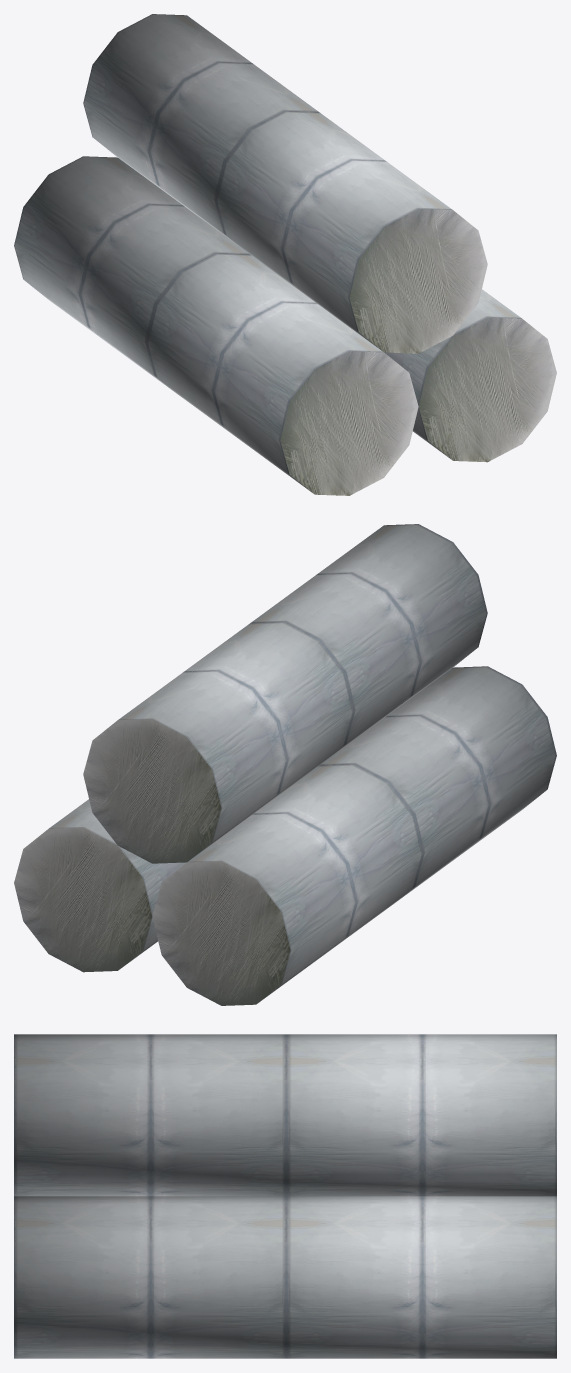
File: hay-bale-plastic-3x4-cbj_LOD01.gltf
The picture shows the model from 3 angles, top to bottom: view 1: azimuth 30°, elevation 25°; view 2: azimuth 150°, elevation 25°; view 3: azimuth 270°, elevation 25°; orthographic projection.
Parts seen in each view (by area): view 1: Cube.001; view 2: Cube.001; view 3: Cube.001.
Boxes of the visible parts, x1=… form: Cube.001: x1=14, y1=14, x2=556, y2=495; Cube.001: x1=14, y1=524, x2=556, y2=1005; Cube.001: x1=14, y1=1034, x2=556, y2=1358.
Size of the model in its own units: 3.6 by 3.36 by 6.
